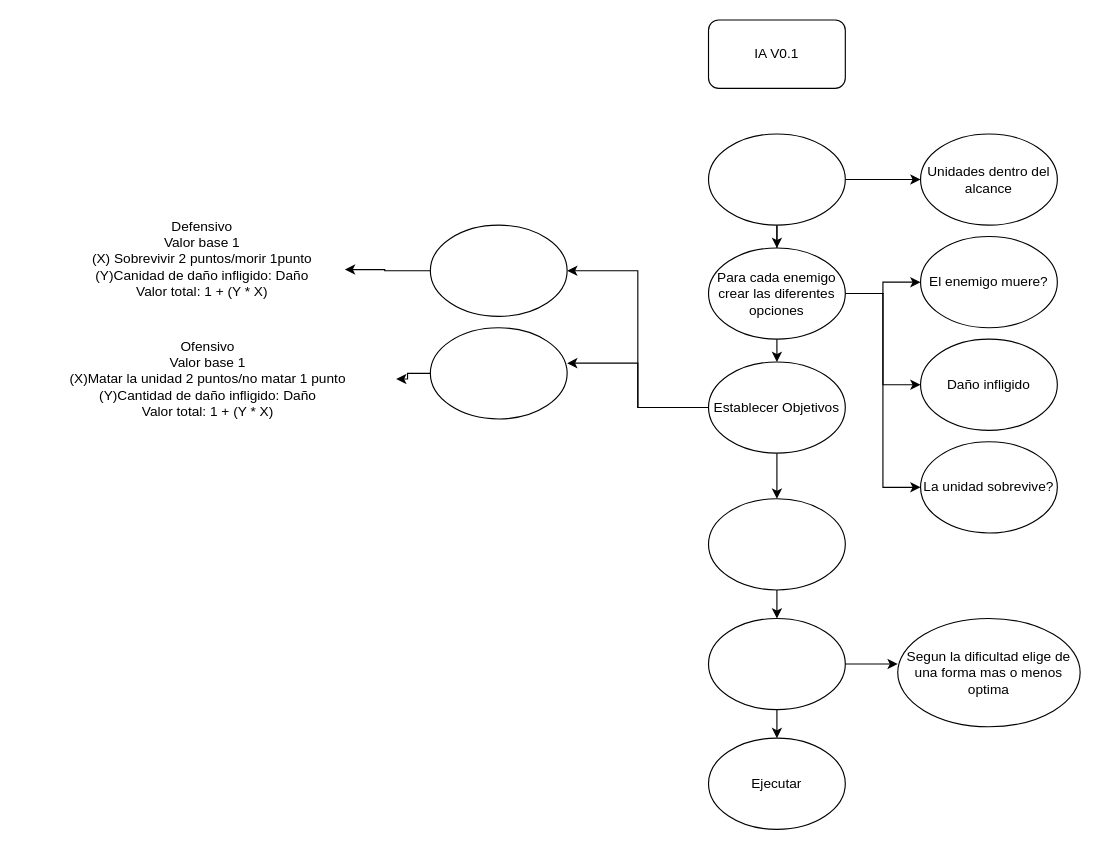
Some shapes in this 1100 by 849 pixel diagram are drawn without their labels. The shapes that lost their labels are listed below. From the top down, each one's centre as x and y in pixels, then its label:
[776,179]: Obtener datos
[498,270]: Juego defensivo (Evitar recibir mucho daño)
[498,373]: Juego ofensivo (Enfocarse en infligir daño)
[776,544]: Transformar esos datos crudos en un valor de prioridad
[776,663]: Realizar la eleccion
